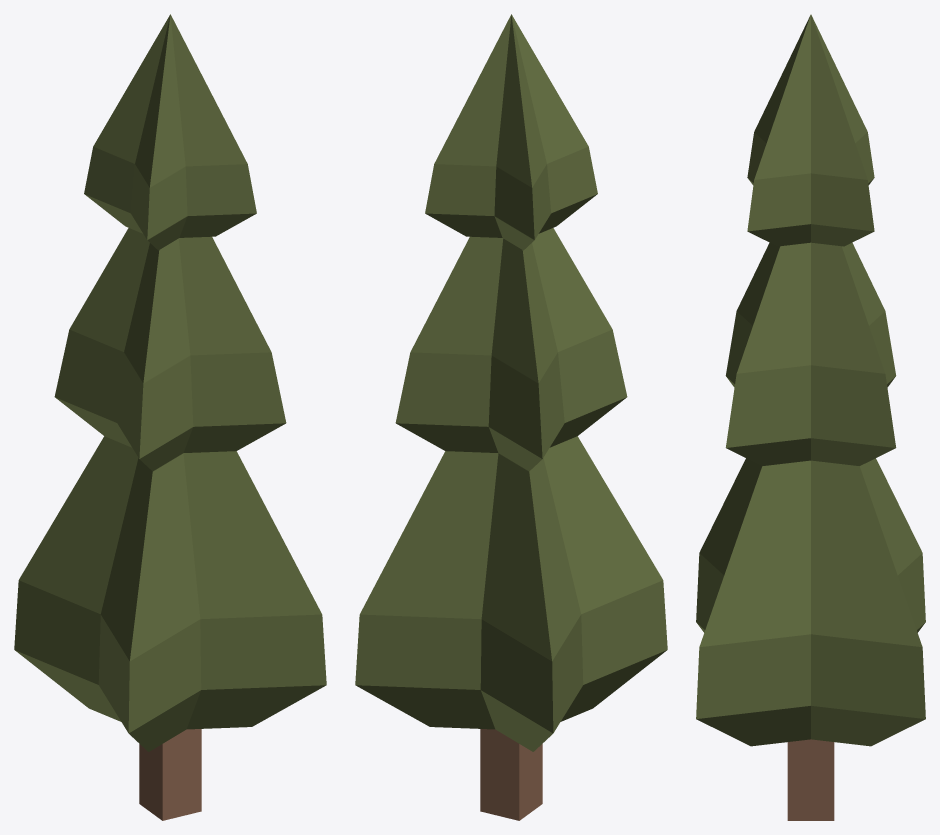
The model's file is tree3.glb.
3 views of the same model, side by side, from view 1: azimuth 30°, elevation 25°; view 2: azimuth 150°, elevation 25°; view 3: azimuth 270°, elevation 25° (orthographic).
Parts seen in each view (by area): view 1: fir_tree_20; view 2: fir_tree_20; view 3: fir_tree_20.
Boxes of the visible parts, box(x1,y1,x2,y2) form: fir_tree_20: box(14, 14, 326, 820); fir_tree_20: box(355, 14, 667, 820); fir_tree_20: box(696, 14, 925, 820).
Size of the model in its own units: 1.44 by 5.51 by 1.44.
Materials: 1 (1 with a texture image).
